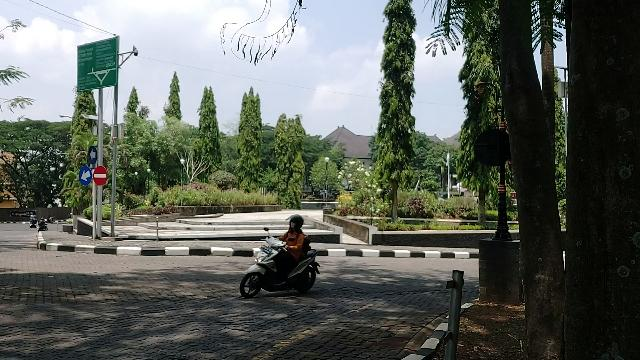helm: (287, 215, 306, 232)
motor: (241, 228, 323, 301)
